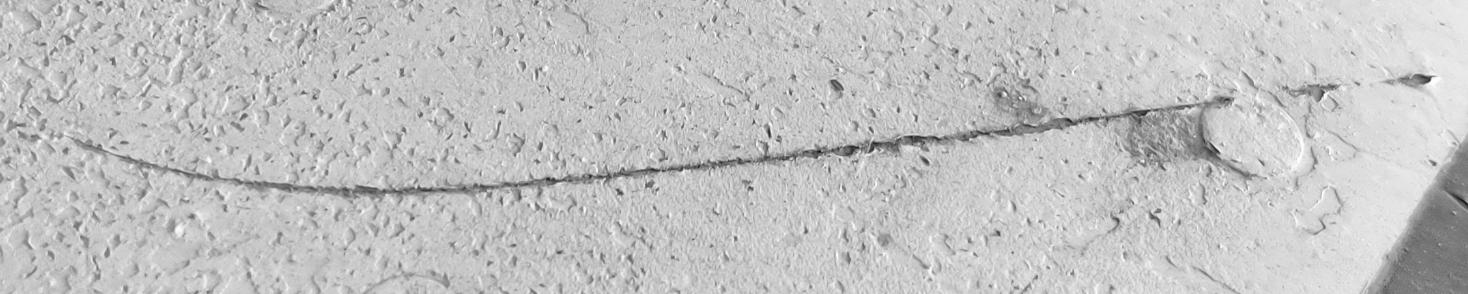scratch: (0, 1, 1467, 294)
